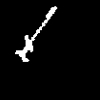double_crochet: (15, 6, 56, 61)
